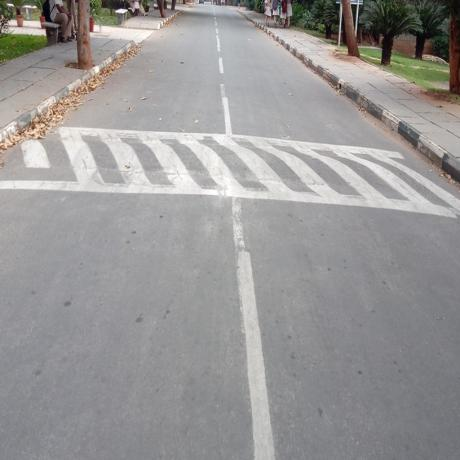Speed Bump: (19, 127, 460, 218)
